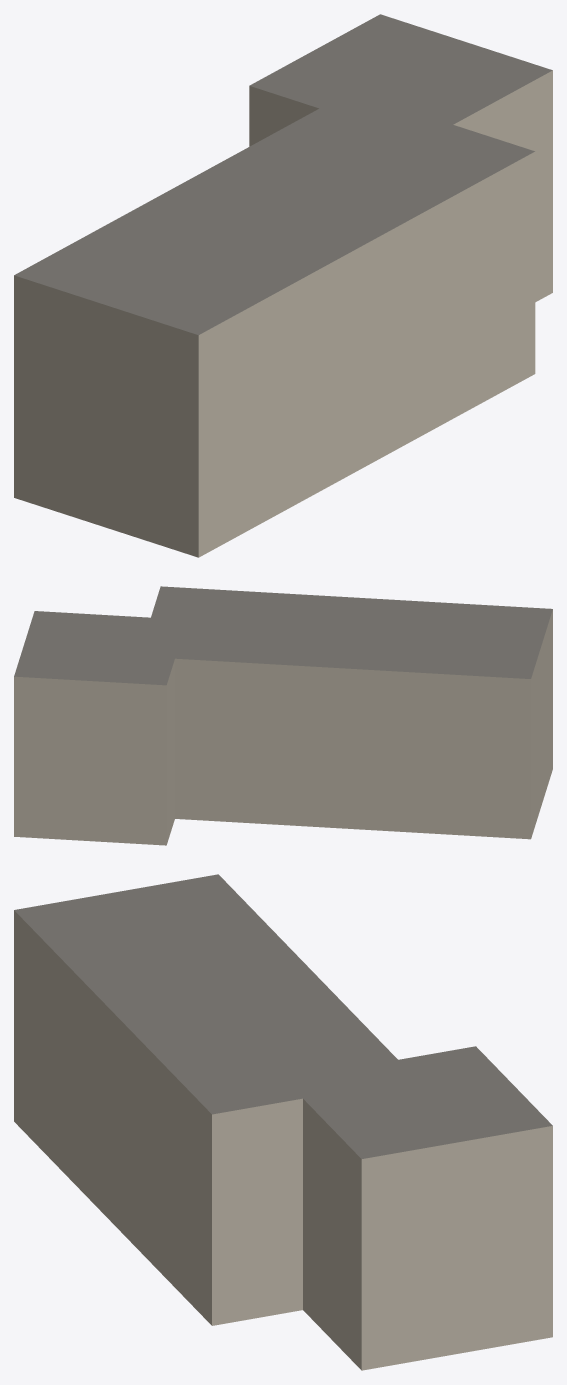
3 renders of one model, top to bottom at view 1: azimuth 30°, elevation 25°; view 2: azimuth 150°, elevation 25°; view 3: azimuth 270°, elevation 25°, orthographic. The views are drawn at different scales.
Parts seen in each view (by area): view 1: HP-w372180522; view 2: HP-w372180522; view 3: HP-w372180522.
Boxes of the visible parts, box(x1,y1,x2,y2) form: HP-w372180522: box(14, 14, 552, 557); HP-w372180522: box(14, 586, 552, 845); HP-w372180522: box(14, 874, 552, 1370).
Size of the model in its own units: 52.01 by 18 by 41.58.
